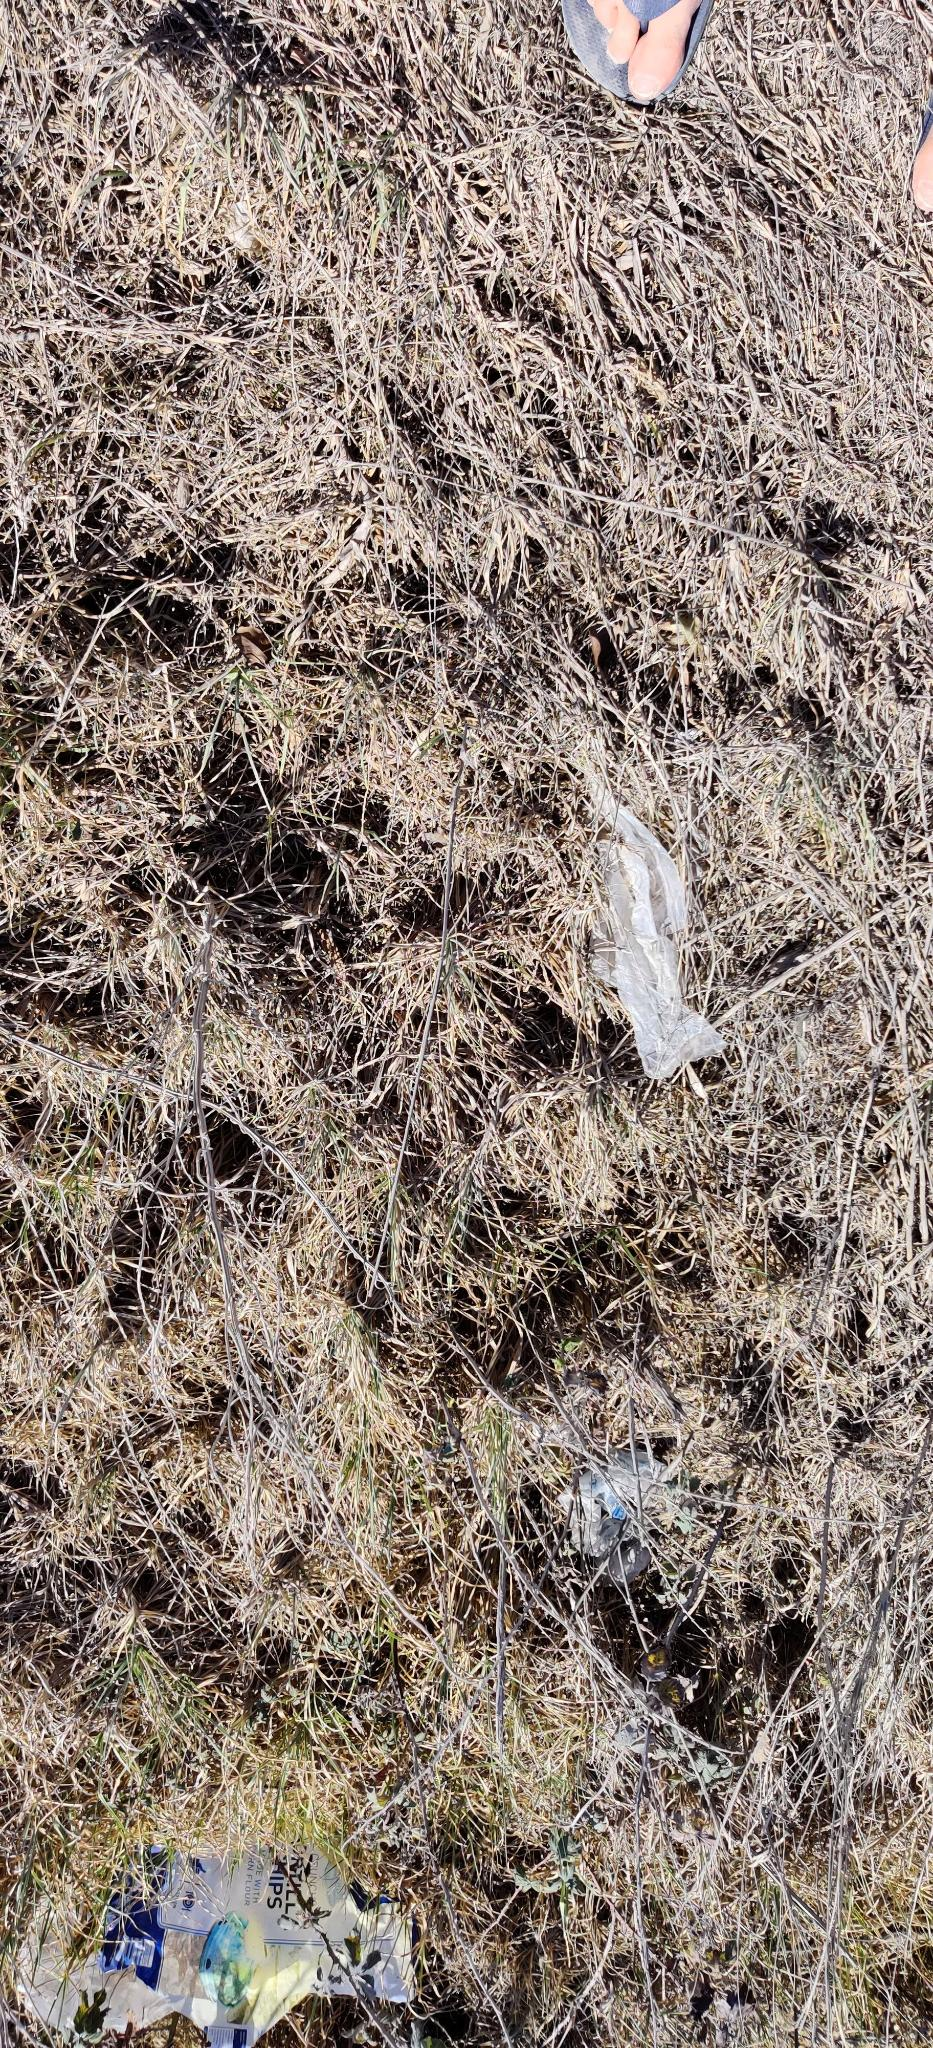Plastic: (2, 1784, 422, 2048), (558, 758, 735, 1086)
